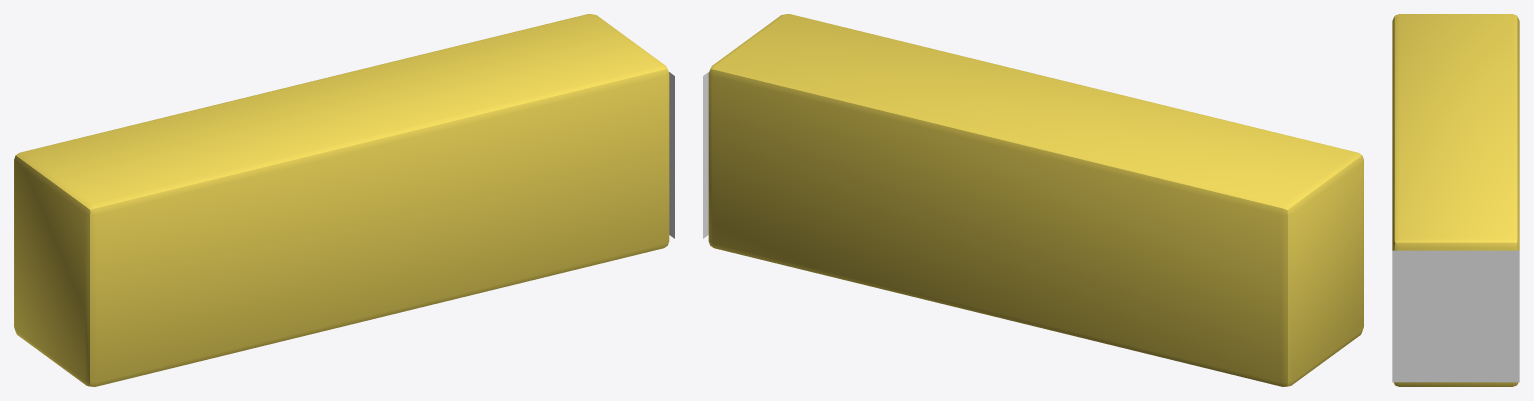
Rendered from absorbeur.glb.
3 renders of one model, left to right at view 1: azimuth 30°, elevation 25°; view 2: azimuth 150°, elevation 25°; view 3: azimuth 270°, elevation 25°, orthographic. The views are drawn at different scales.
Visible parts, largest first — view 1: absorbeur; view 2: absorbeur; view 3: absorbeur.
Boxes of the visible parts, x1,y1,x2,y2 form: absorbeur: (14, 14, 674, 386); absorbeur: (703, 14, 1363, 386); absorbeur: (1392, 14, 1519, 386).
Bounding box in the file's own units: 3.01 × 0.9 × 0.7.
